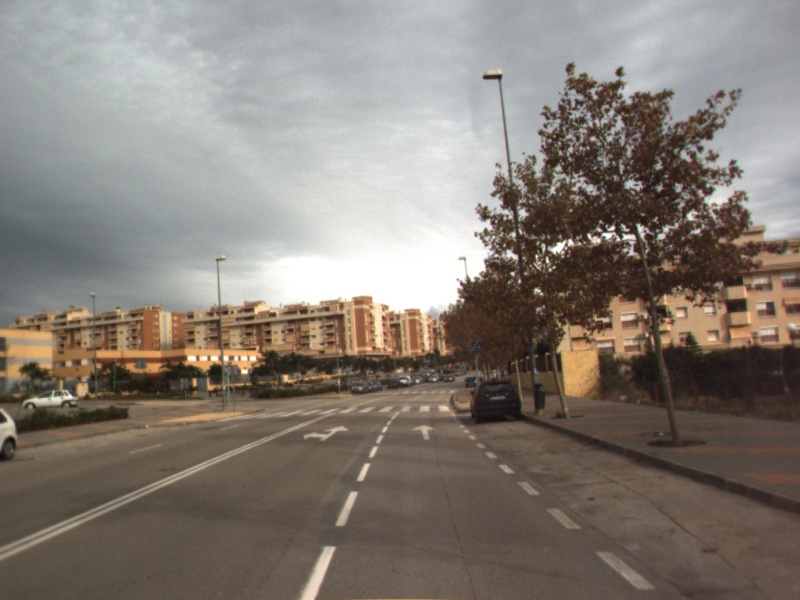STRAIGHT: (410, 423, 438, 441)
STRAIGHT_LEFT: (301, 423, 351, 443)
